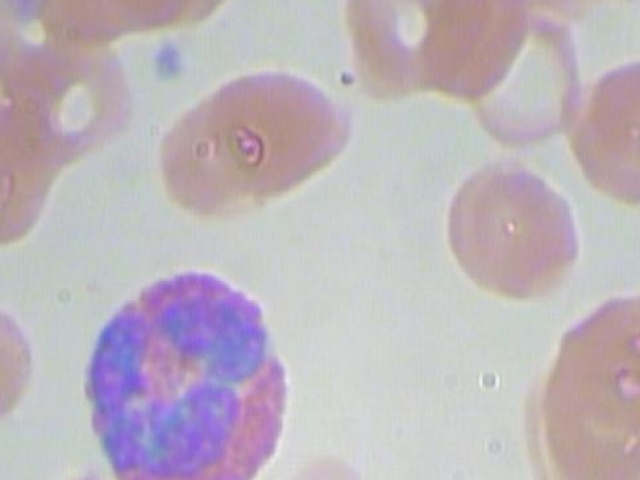Platelets: (141, 34, 190, 87)
RBC: (200, 56, 349, 208), (146, 91, 295, 243), (6, 28, 140, 182), (450, 0, 580, 148), (461, 151, 587, 303), (324, 0, 494, 100), (544, 287, 640, 440), (442, 146, 526, 298), (569, 56, 640, 208), (0, 102, 60, 257), (0, 290, 45, 429), (270, 442, 397, 480), (68, 0, 206, 28), (482, 0, 612, 20), (20, 470, 199, 480), (559, 0, 640, 20)
WBC: (68, 255, 307, 480)
